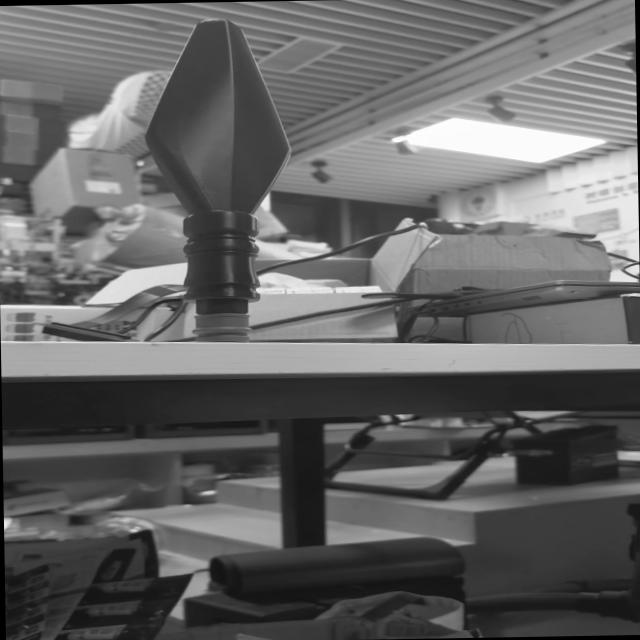base: (191, 310, 249, 341)
